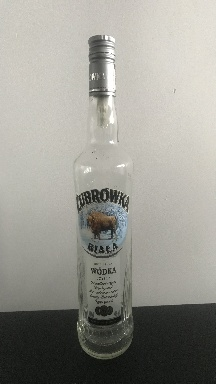butelka: (71, 32, 135, 362)
